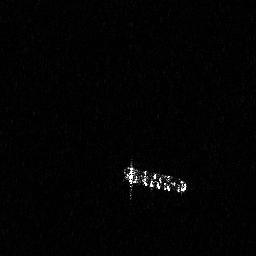ship: (121, 156, 189, 203)
